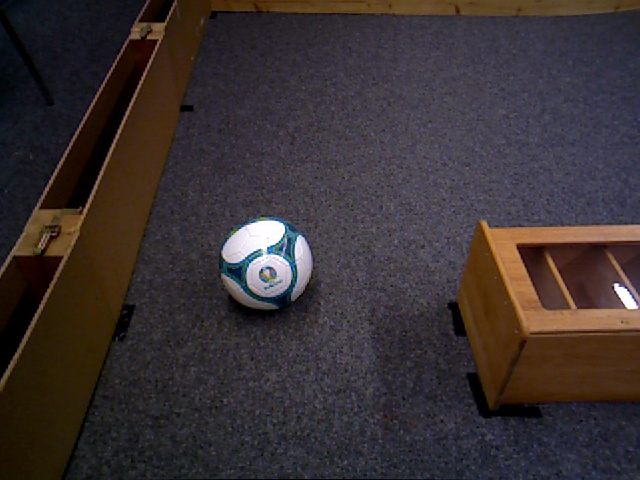kick: (218, 217, 314, 315)
